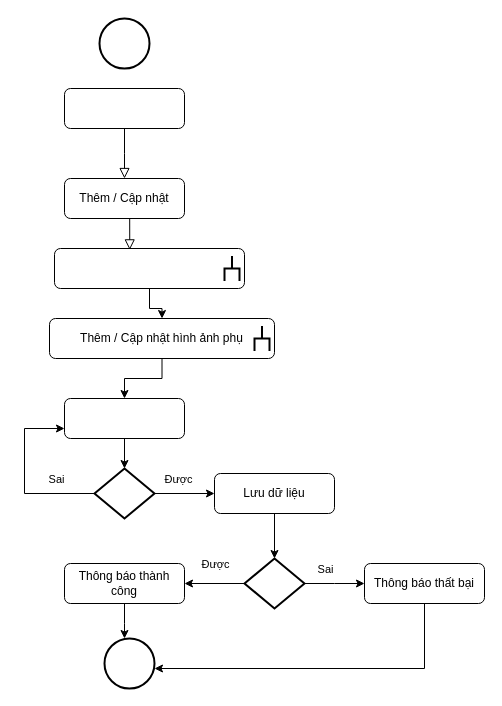
Some shapes in this 502 by 706 pixel diagram are drawn without their labels. The box of each missing label's shape, as (x1, y1, x2, y2) in pixels:
Danh sách sản phẩm: (64, 88, 184, 128)
Nhập dữ liệu: (64, 398, 184, 438)
Thêm / Cập nhật chi tiết: (54, 248, 244, 288)
